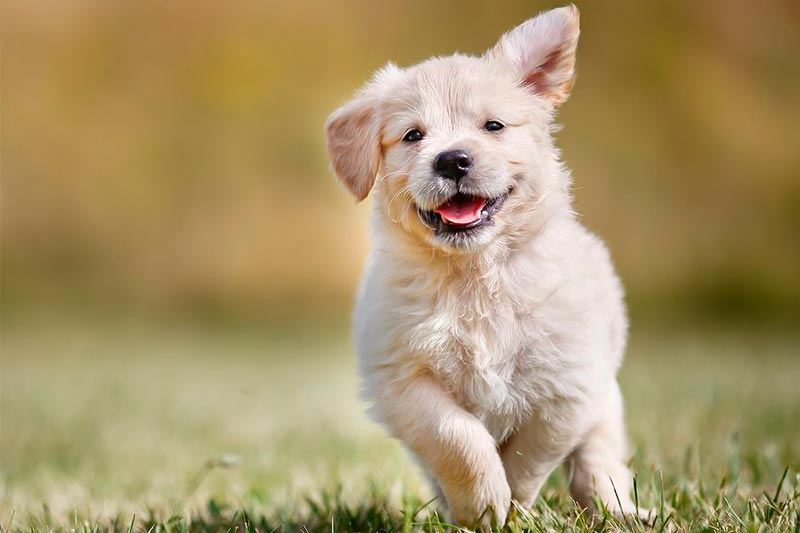dog: (326, 5, 646, 533)
